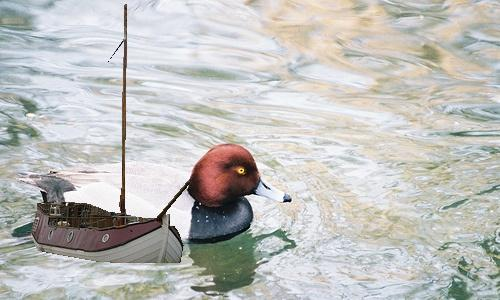tampered: (31, 5, 191, 263)
